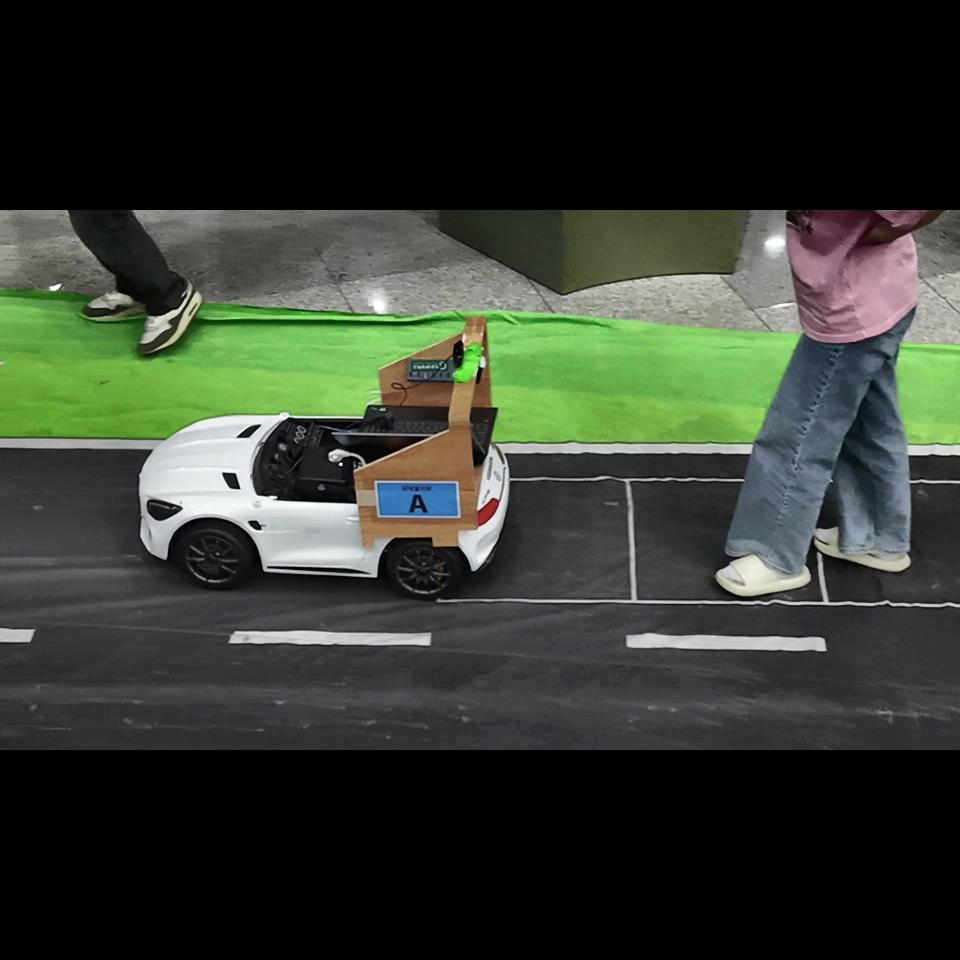broken_line: (626, 632, 826, 651), (228, 631, 432, 645), (0, 628, 36, 642)
